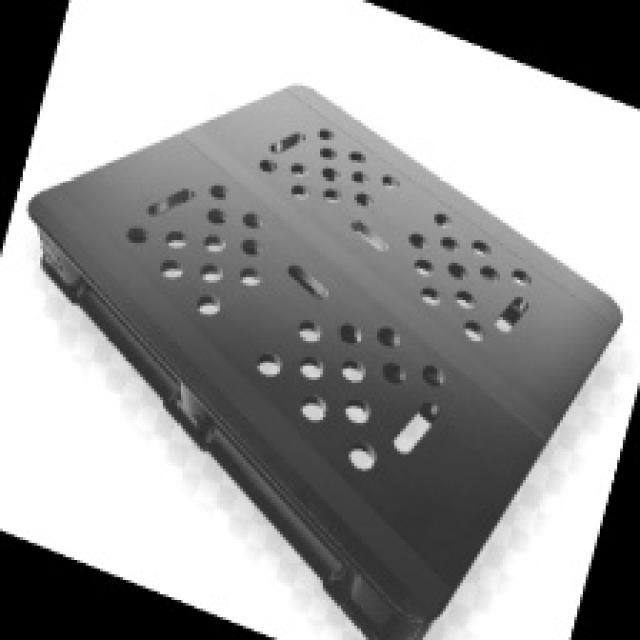igps: (23, 79, 629, 640)
